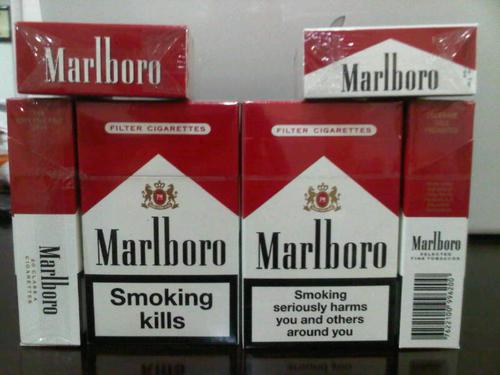marlboro: (243, 103, 401, 350), (80, 107, 241, 347)
